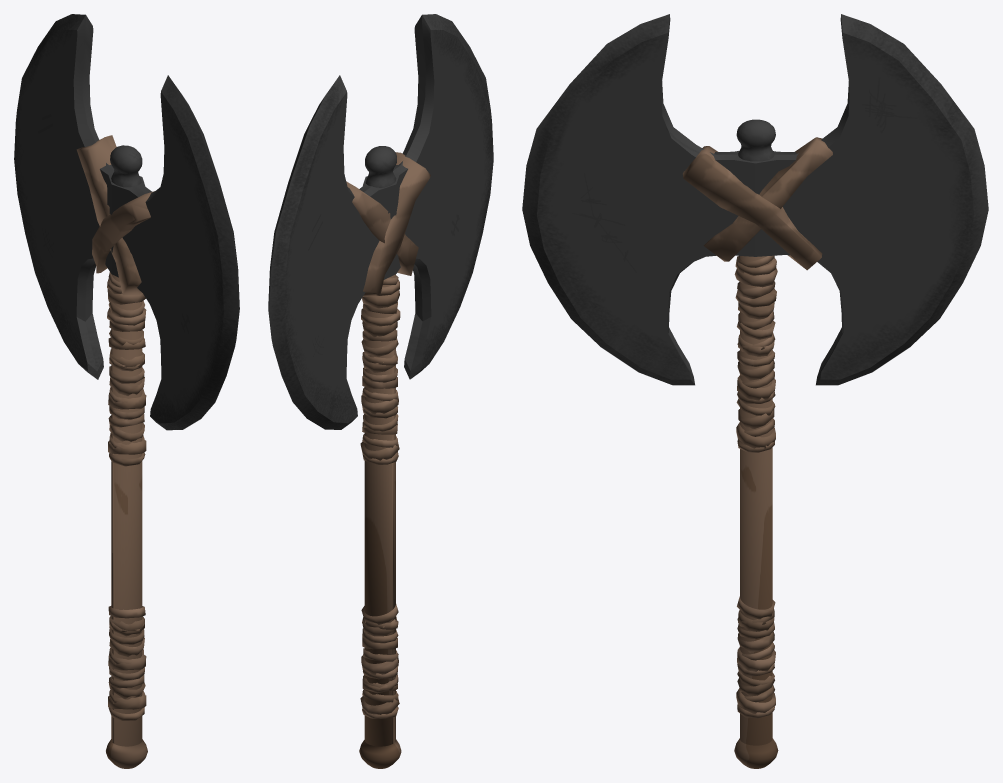
The picture shows the model from 3 angles, left to right: view 1: azimuth 30°, elevation 25°; view 2: azimuth 150°, elevation 25°; view 3: azimuth 270°, elevation 25°; orthographic projection. The views are drawn at different scales.
Parts seen in each view (by area): view 1: Plane; view 2: Plane; view 3: Plane.
Part boxes in pixels (x1,y1,x2,y2): Plane: [14, 14, 239, 768]; Plane: [268, 14, 493, 768]; Plane: [522, 14, 988, 768].
Size of the model in its own units: 0.3299 by 5.79 by 3.26.
Materials: 3 (3 with a texture image).
